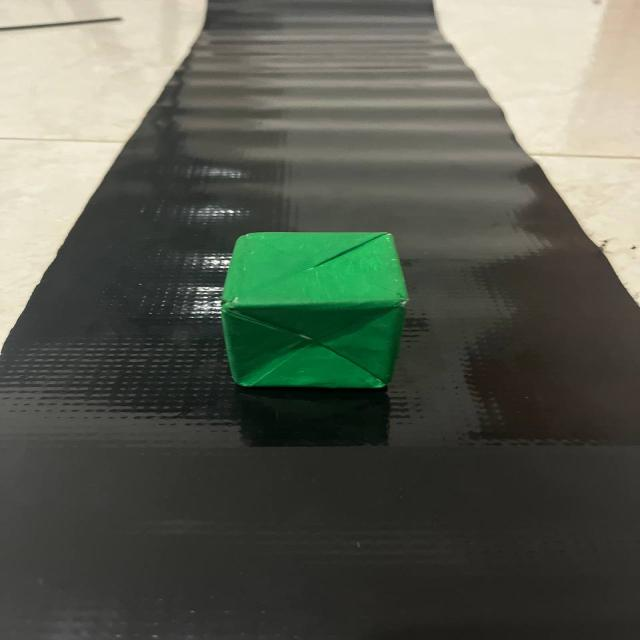Verde: (205, 216, 429, 406)
